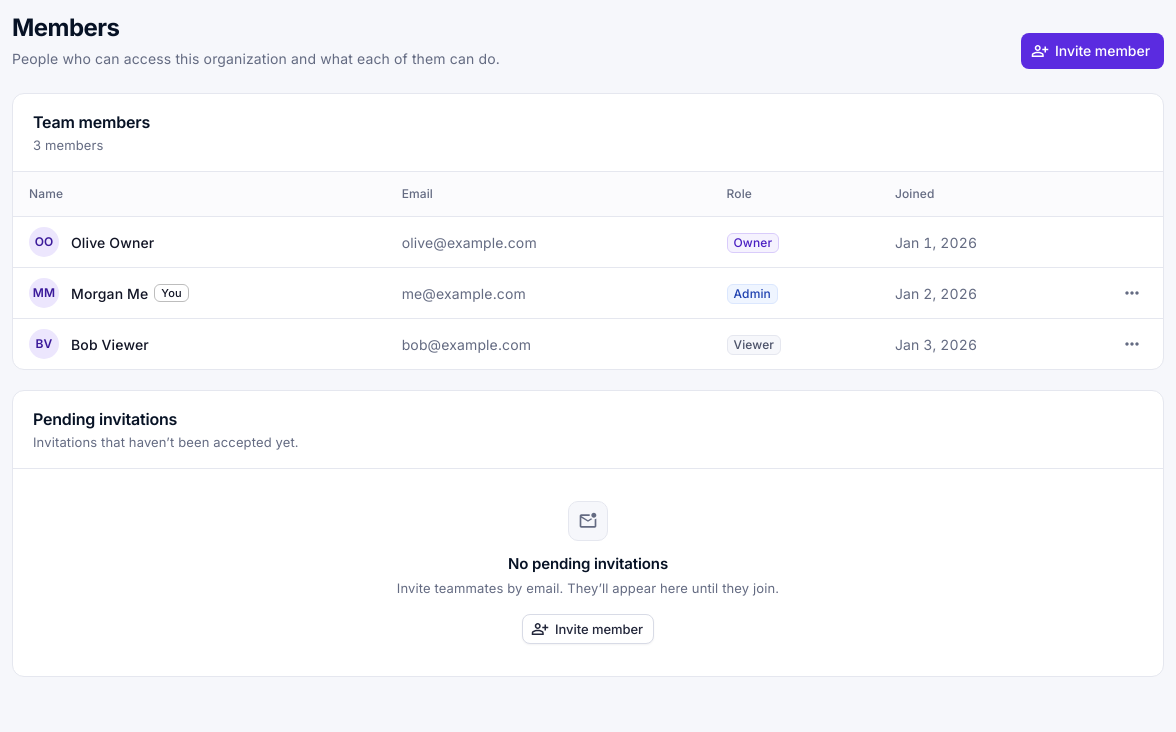
it: MembersPage permissions › shows invite and role controls to an admin, limited to what an admin may manage
This screenshot has width=1176, height=732.
Later steps or results of the test are not shown.
Expected: the text "Bob Viewer" is shown, [71,334,149,354]
Expected: the text "No pending invitations" is shown, [508,553,668,575]
Click the button named "Actions for Bob Viewer" at (1132, 344), box [1117,329,1147,359]
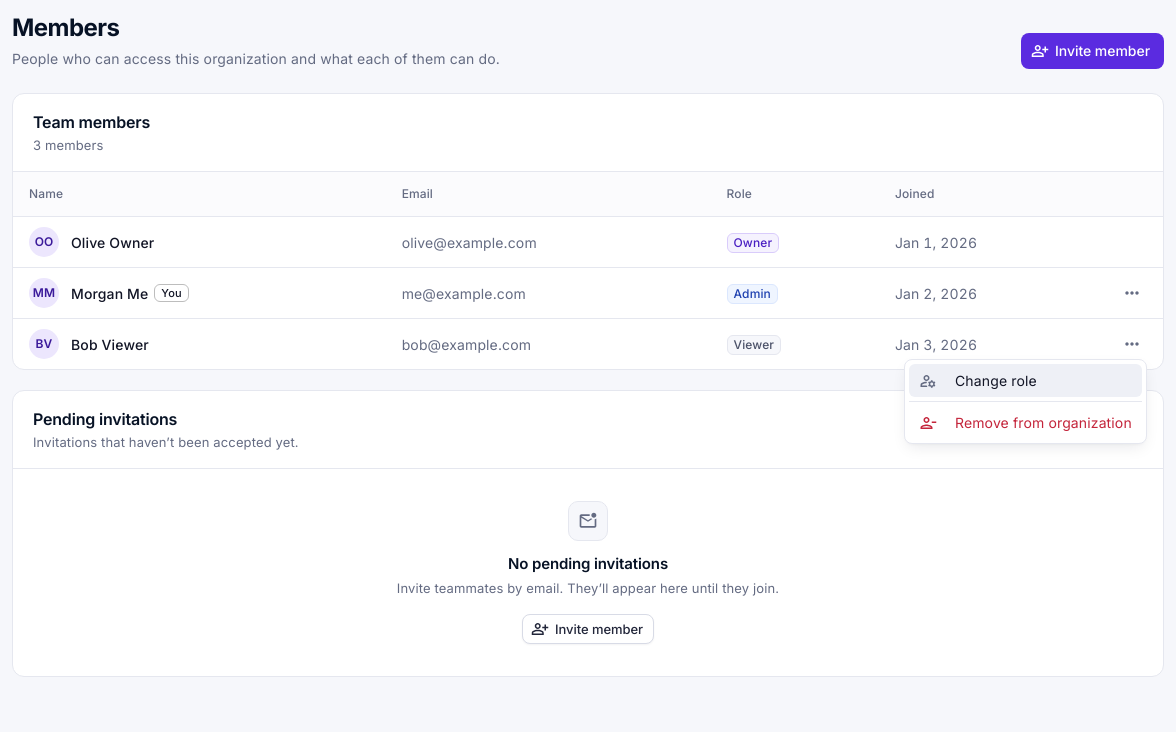
Expected: the menu item "Change role" is shown, [909,364,1142,397]
Expected: the menu item "Remove from organization" is shown, [919,414,1132,432]
